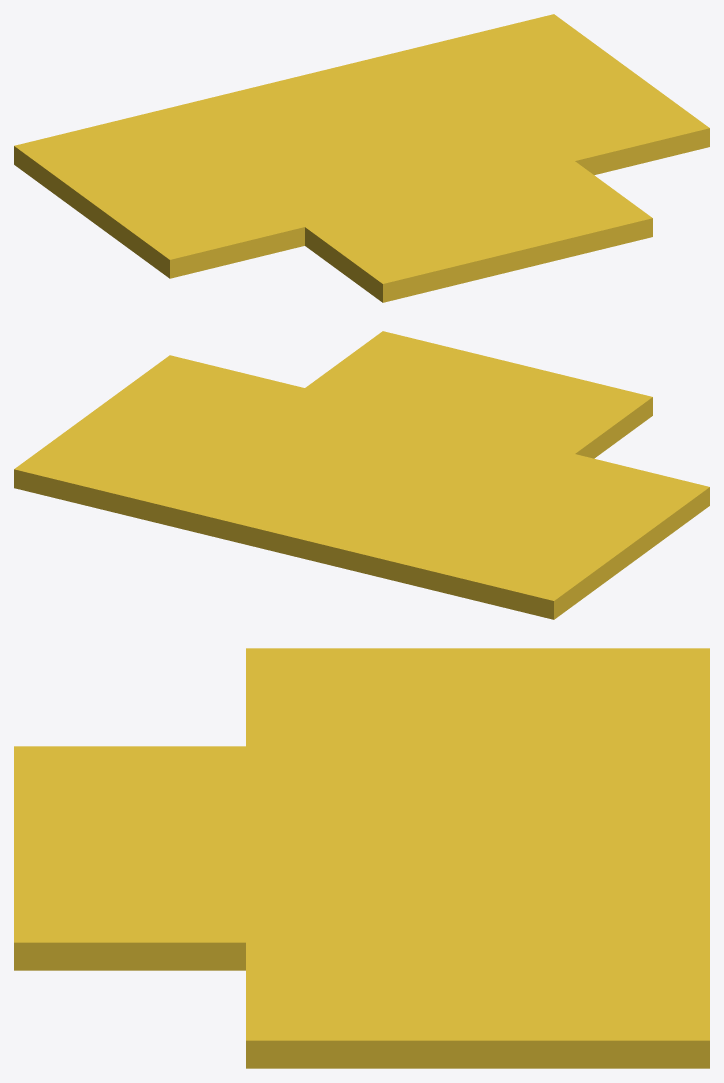
File: Floor_A_LineHalf_TType.FBX
3 renders of one model, top to bottom at view 1: azimuth 30°, elevation 25°; view 2: azimuth 150°, elevation 25°; view 3: azimuth 270°, elevation 25°, orthographic. The views are drawn at different scales.
Parts seen in each view (by area): view 1: Floor_A_LineHalf_TType; view 2: Floor_A_LineHalf_TType; view 3: Floor_A_LineHalf_TType.
Part boxes in pixels (left/top/right/bottom): Floor_A_LineHalf_TType: left=14, top=14, right=709, bottom=302; Floor_A_LineHalf_TType: left=14, top=331, right=709, bottom=619; Floor_A_LineHalf_TType: left=14, top=648, right=709, bottom=1068.
Bounding box in the file's own units: 600 × 20 × 450.
